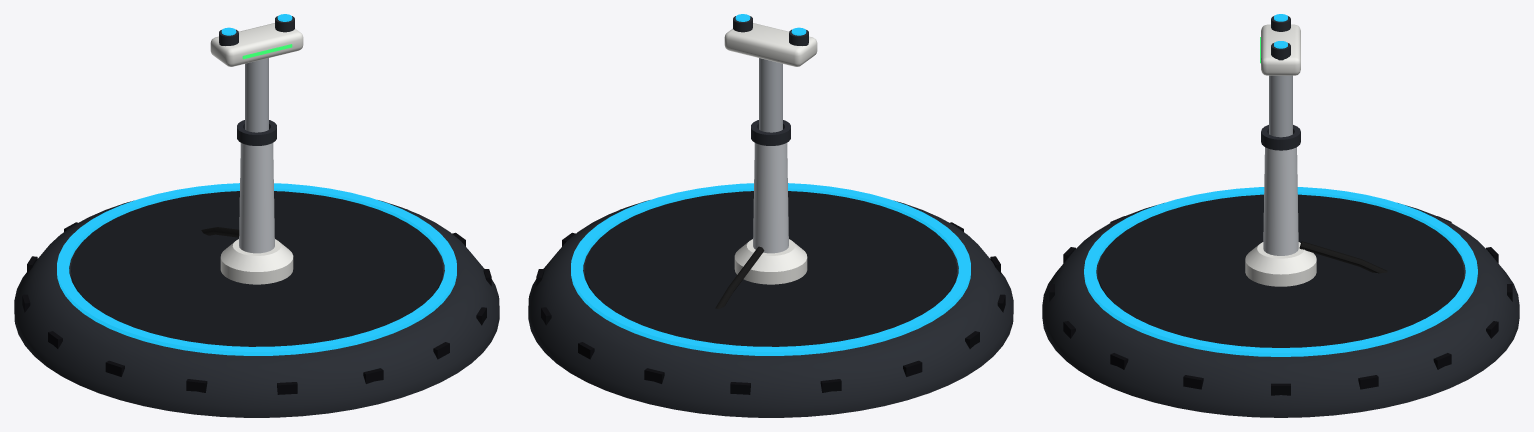
File: holo_flip.glb
The picture shows the model from 3 angles, left to right: view 1: azimuth 30°, elevation 25°; view 2: azimuth 150°, elevation 25°; view 3: azimuth 270°, elevation 25°; orthographic projection.
Parts seen in each view (by area): view 1: flipBody; view 2: flipBody; view 3: flipBody.
Boxes of the visible parts, left/top/right/bottom form: flipBody: left=14, top=14, right=499, bottom=417; flipBody: left=528, top=14, right=1013, bottom=417; flipBody: left=1042, top=14, right=1519, bottom=417.
Size of the model in its own units: 1.2 by 0.795 by 1.2.
